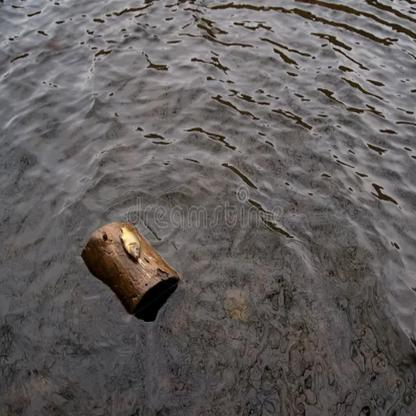deceased fish: (121, 225, 141, 258)
